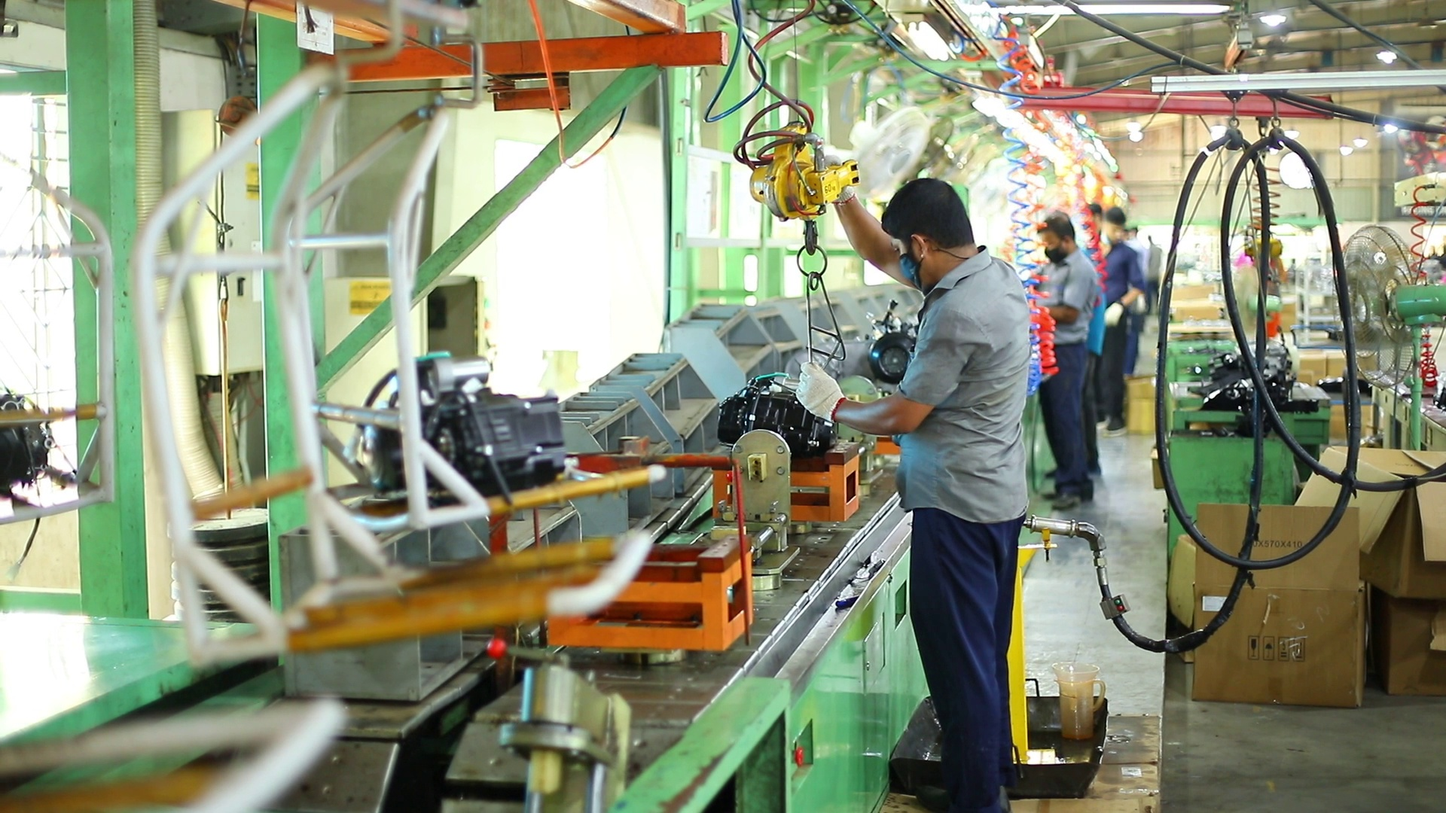mask: (898, 255, 923, 291)
person: (795, 142, 1030, 813), (1025, 211, 1103, 510), (1084, 208, 1148, 437), (1082, 202, 1103, 422)
